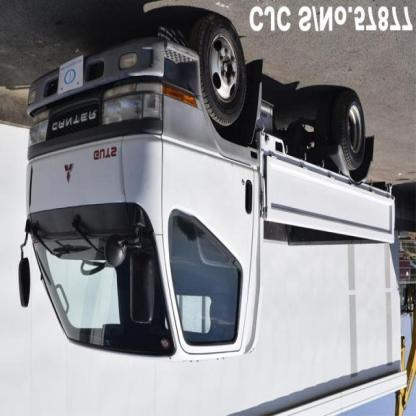truck: (19, 21, 395, 362)
